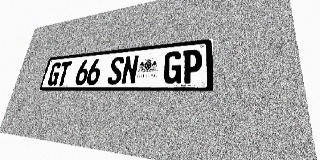6: (86, 58, 103, 85), (74, 59, 91, 85)
G: (162, 51, 183, 84), (46, 62, 62, 86)
N: (121, 55, 139, 84)
P: (182, 49, 202, 83)
S: (107, 56, 125, 85)
T: (56, 61, 72, 86)
